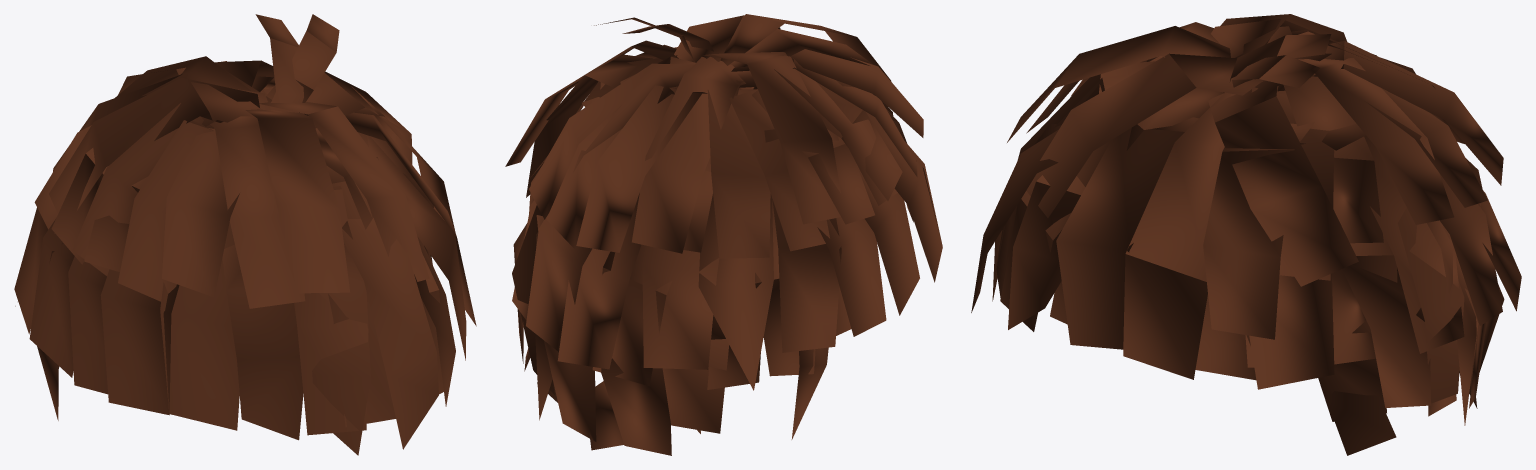
File: hair.glb
3 views of the same model, side by side, from view 1: azimuth 30°, elevation 25°; view 2: azimuth 150°, elevation 25°; view 3: azimuth 270°, elevation 25° (orthographic). The views are drawn at different scales.
Visible parts, largest first — view 1: hero_hair; view 2: hero_hair; view 3: hero_hair.
Boxes of the visible parts, <box> form: hero_hair: <box>14,14,476,455</box>; hero_hair: <box>505,14,942,455</box>; hero_hair: <box>971,14,1521,455</box>.
Bounding box in the file's own units: 0.4062 × 0.3943 × 0.5103.
